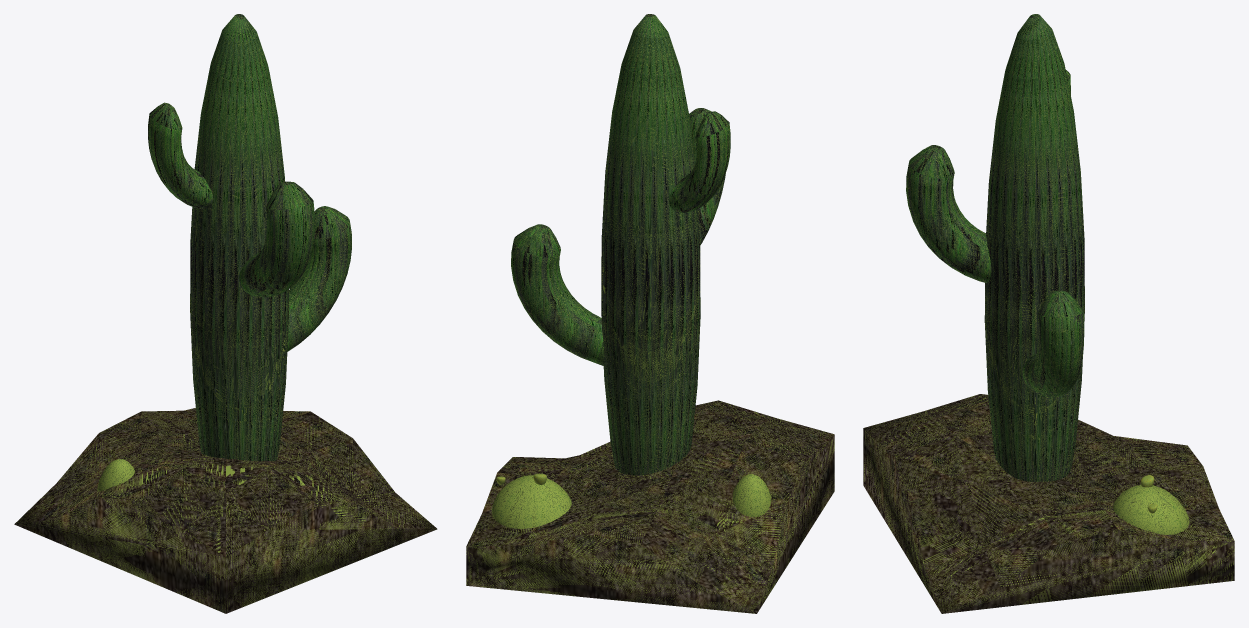
3 views of the same model, side by side, from view 1: azimuth 30°, elevation 25°; view 2: azimuth 150°, elevation 25°; view 3: azimuth 270°, elevation 25° (orthographic).
Visible parts, largest first — view 1: Group1, cACTUS1, Component_1_1; view 2: cACTUS1, Group1, Component_1_1; view 3: Group1, cACTUS1, Component_1_1.
Boxes of the visible parts, x1,y1,x2,y2 form: Group1: [14, 408, 437, 613]; cACTUS1: [148, 14, 351, 461]; Component_1_1: [97, 459, 134, 491]; cACTUS1: [511, 14, 730, 475]; Group1: [466, 400, 834, 613]; Component_1_1: [491, 473, 771, 528]; Group1: [863, 394, 1234, 613]; cACTUS1: [906, 14, 1084, 481]; Component_1_1: [1113, 475, 1189, 534].
Bounding box in the file's own units: 2.71 × 4.37 × 2.71.
